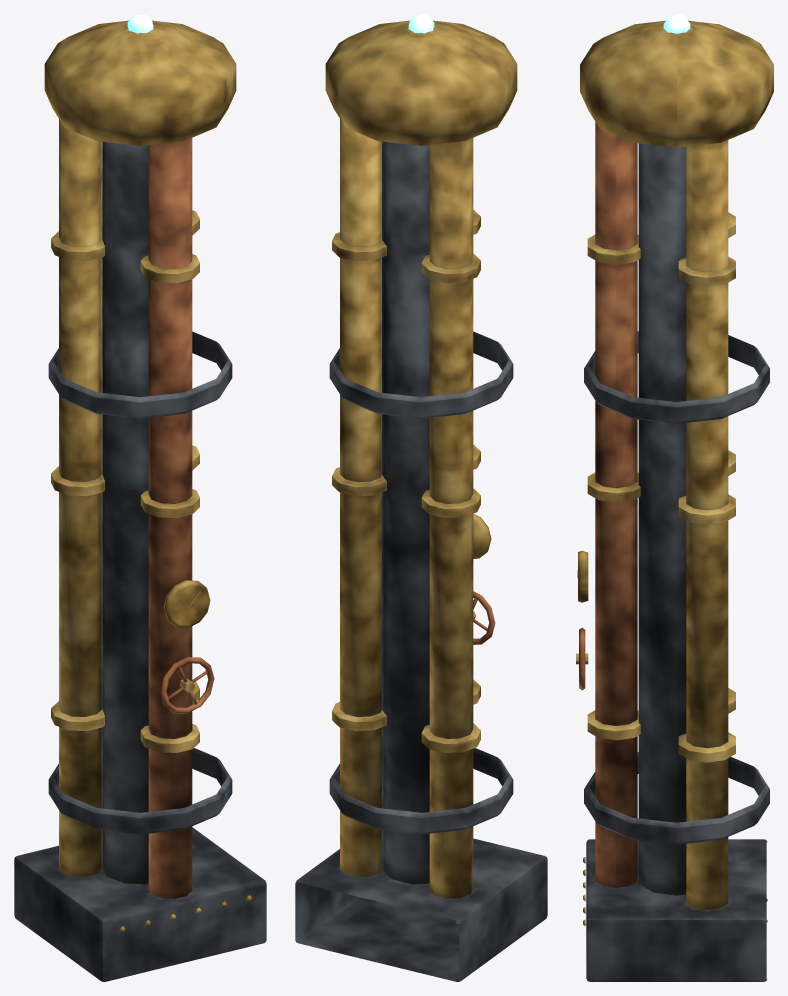
The model's file is ClockLung_Pillar.fbx.
The picture shows the model from 3 angles, left to right: view 1: azimuth 30°, elevation 25°; view 2: azimuth 150°, elevation 25°; view 3: azimuth 270°, elevation 25°; orthographic projection.
Visible parts, largest first — view 1: ClockLung_Pillar; view 2: ClockLung_Pillar; view 3: ClockLung_Pillar.
Part boxes in pixels (x1,y1,x2,y2): ClockLung_Pillar: (14, 14, 266, 981); ClockLung_Pillar: (295, 14, 547, 981); ClockLung_Pillar: (576, 14, 773, 981).
Bounding box in the file's own units: 0.96 × 5.07 × 0.98.
